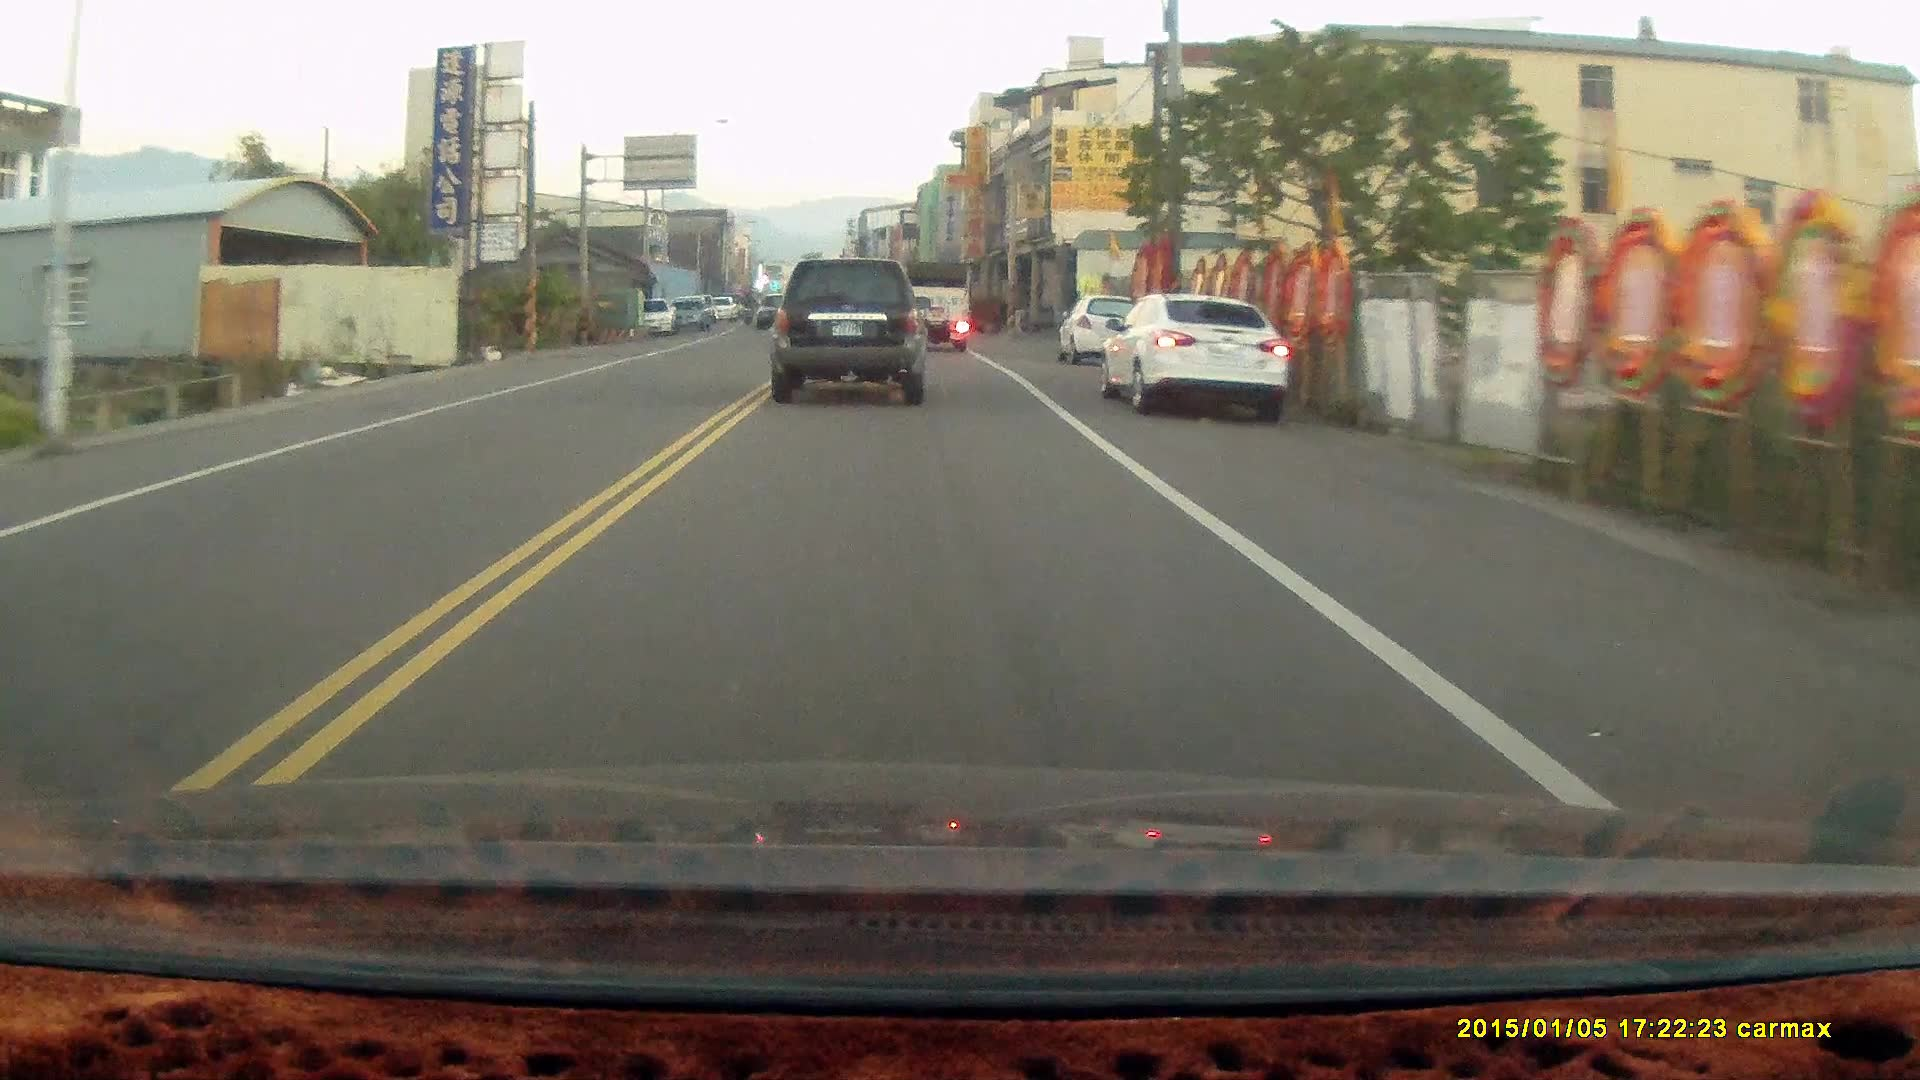vehicle: (1100, 290, 1294, 419), (770, 258, 931, 407), (898, 262, 975, 357), (1059, 294, 1154, 367)
